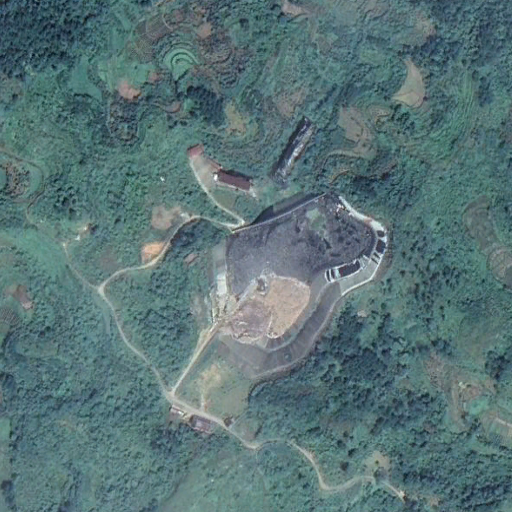lf: (227, 195, 389, 372)
